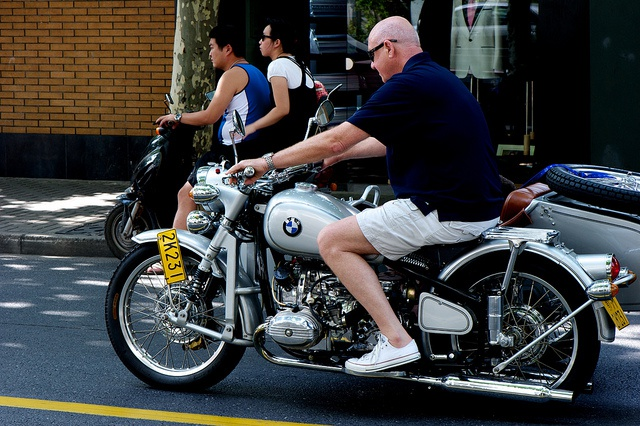non-vehicle: (104, 97, 637, 410), (103, 93, 353, 260)
